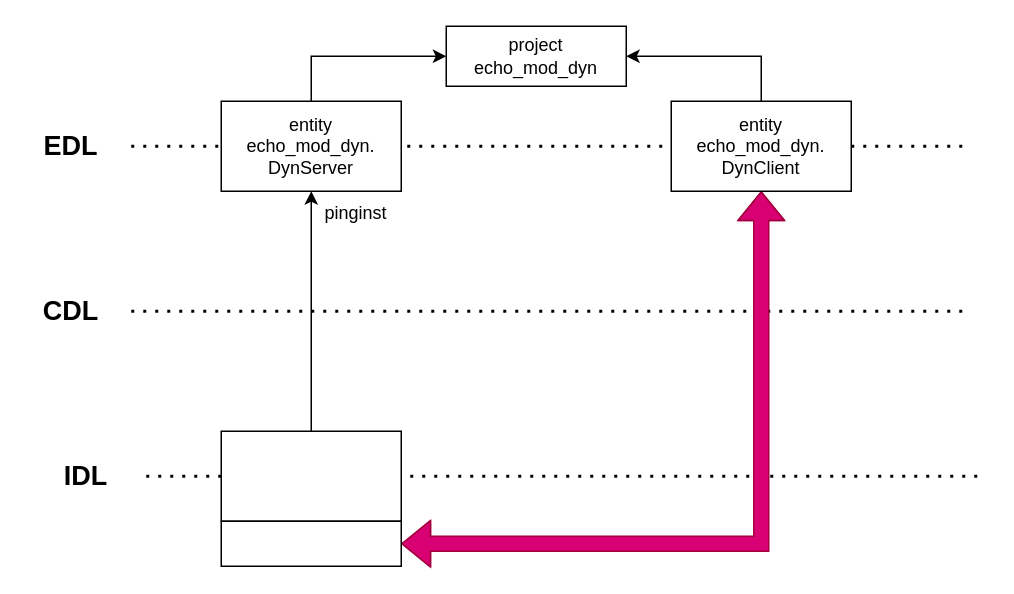
The diagram is 1014 pixels wide and 594 high, and some of its shapes have lost their labels. Here are the shapes that lost their labels. From the top down, the centre of each, then its label:
At point (310, 475): "package echo.IDynPing".
At point (310, 543): "FDynPing (value, result)".
